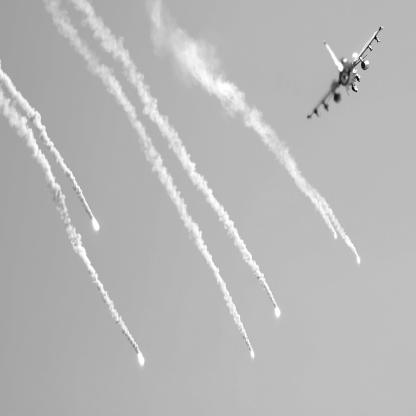F16: (308, 27, 386, 121)
